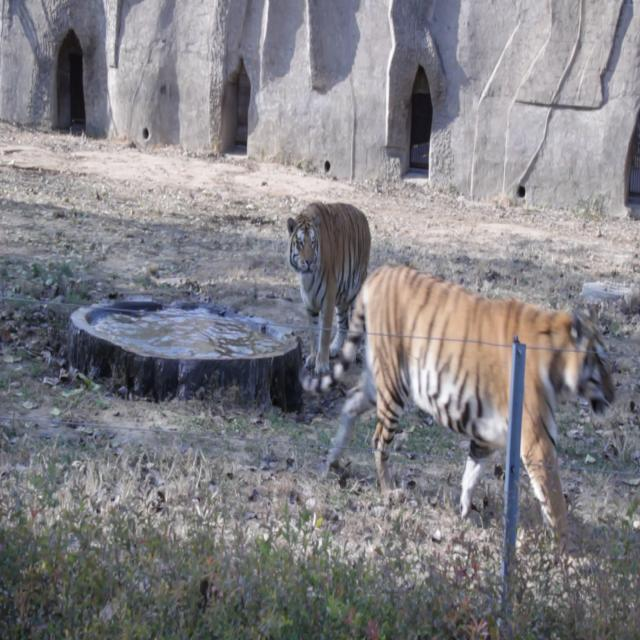Tiger: (343, 252, 618, 565), (284, 201, 370, 386)
